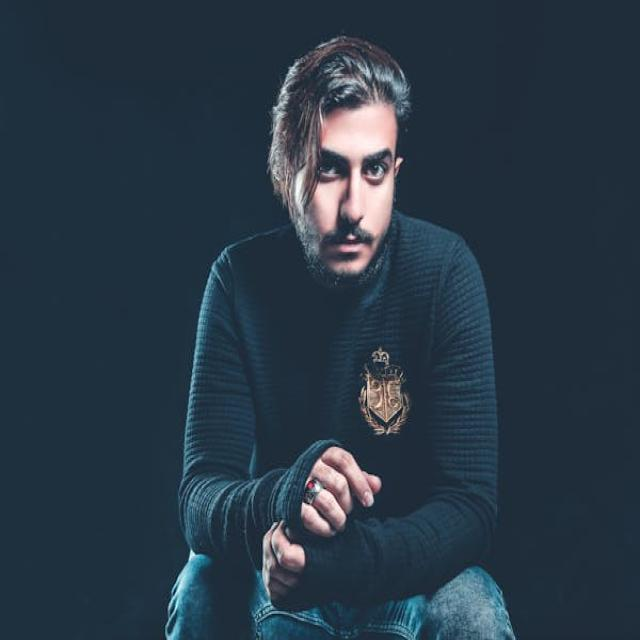Real human 2: (149, 29, 539, 640)
